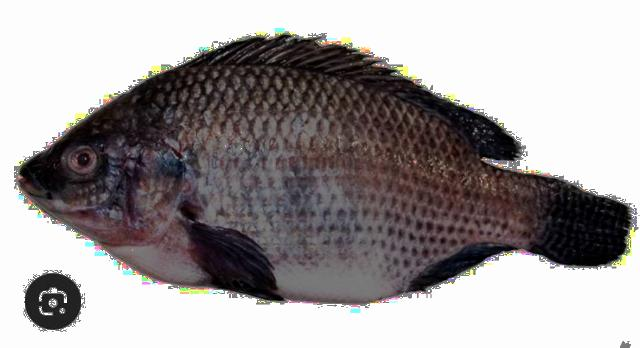Healthy Fish: (18, 36, 633, 306)
